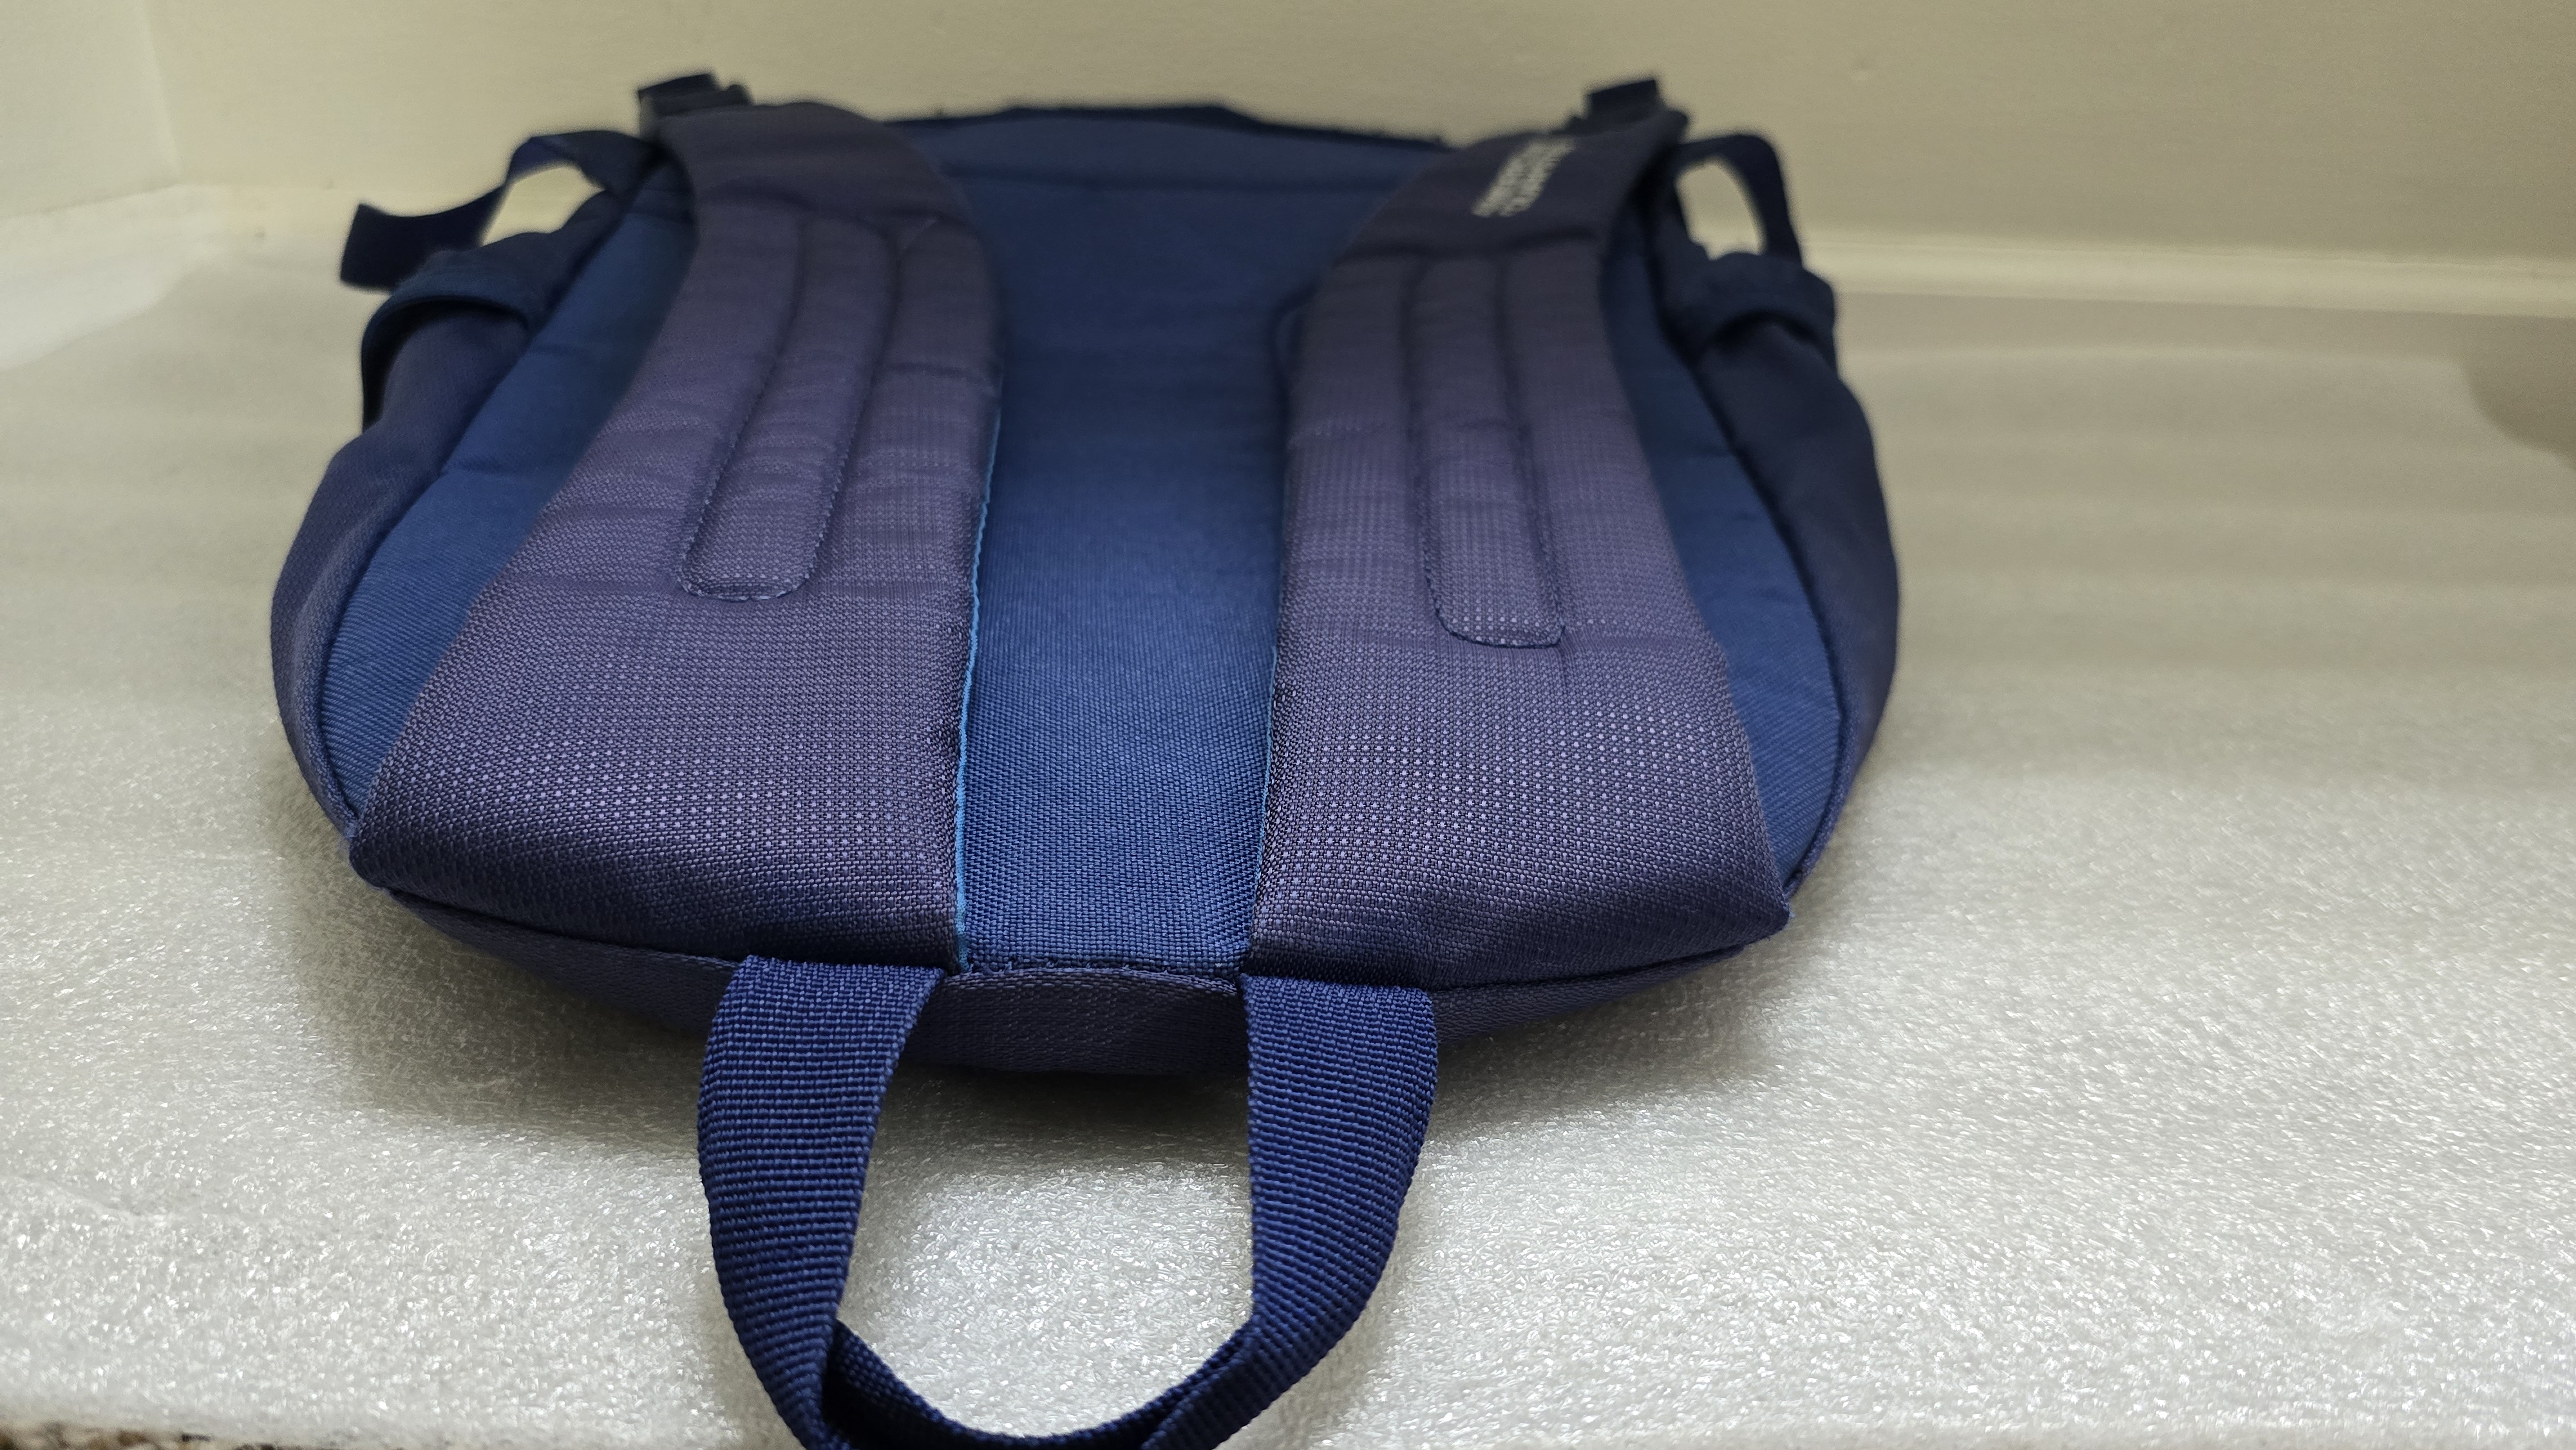bag: (265, 30, 2022, 1450)
